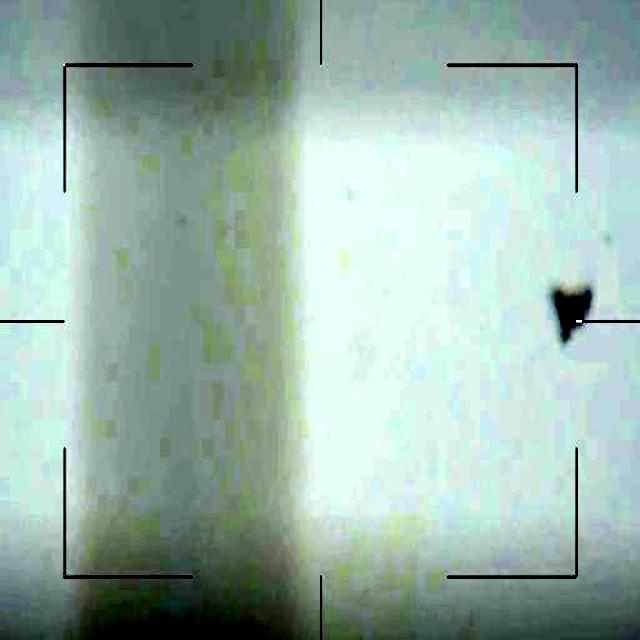bird: (546, 272, 599, 351)
